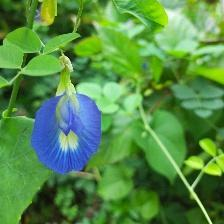shankupushpam: (28, 53, 104, 176)
